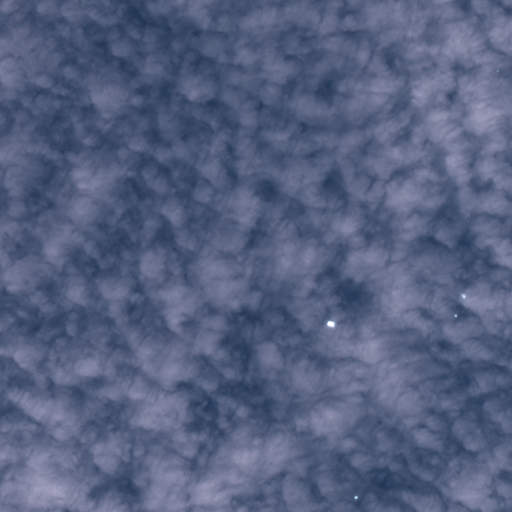Iceberg: (327, 320, 334, 327), (462, 294, 465, 298), (354, 495, 357, 499), (454, 314, 457, 317), (497, 70, 498, 71)
